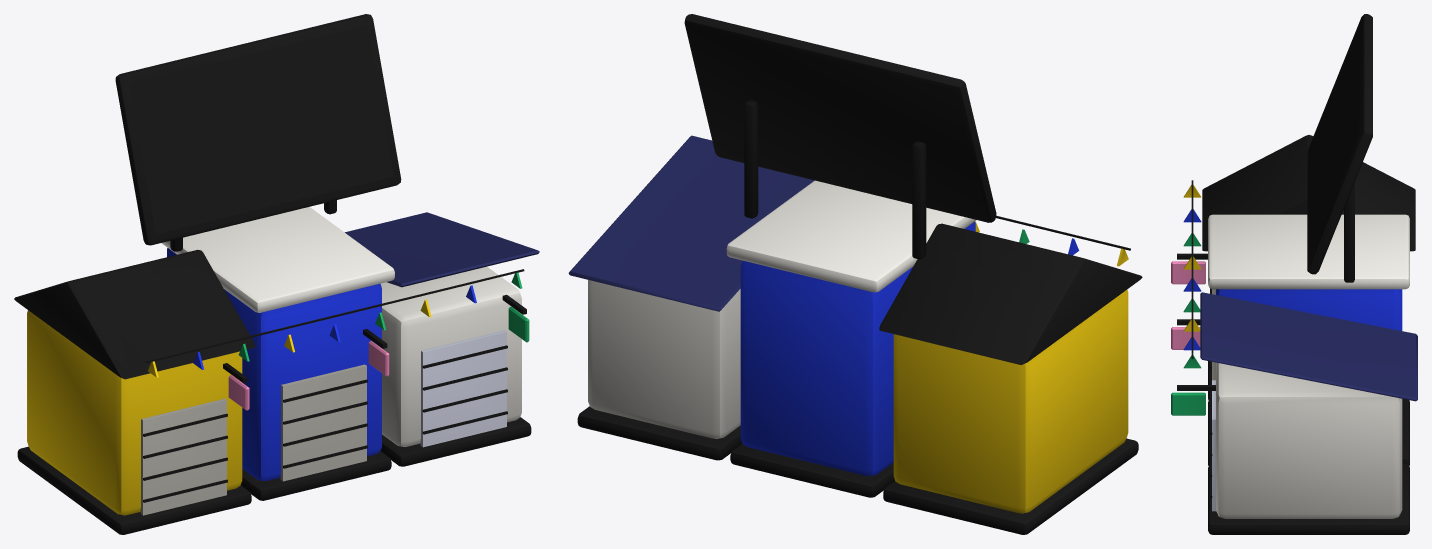
The model's file is side-alley.glb.
3 renders of one model, left to right at view 1: azimuth 30°, elevation 25°; view 2: azimuth 150°, elevation 25°; view 3: azimuth 270°, elevation 25°, orthographic. The views are drawn at different scales.
Visible parts, largest first — view 1: side-alley, screen; view 2: side-alley; view 3: side-alley, screen.
Boxes of the visible parts, x1,y1,x2,y2 form: side-alley: (14,14,539,534); screen: (129,25,393,234); side-alley: (568,14,1142,534); side-alley: (1171,14,1417,534); screen: (1308,24,1359,260).
Bounding box in the file's own units: 5.97 × 5.22 × 3.17.
